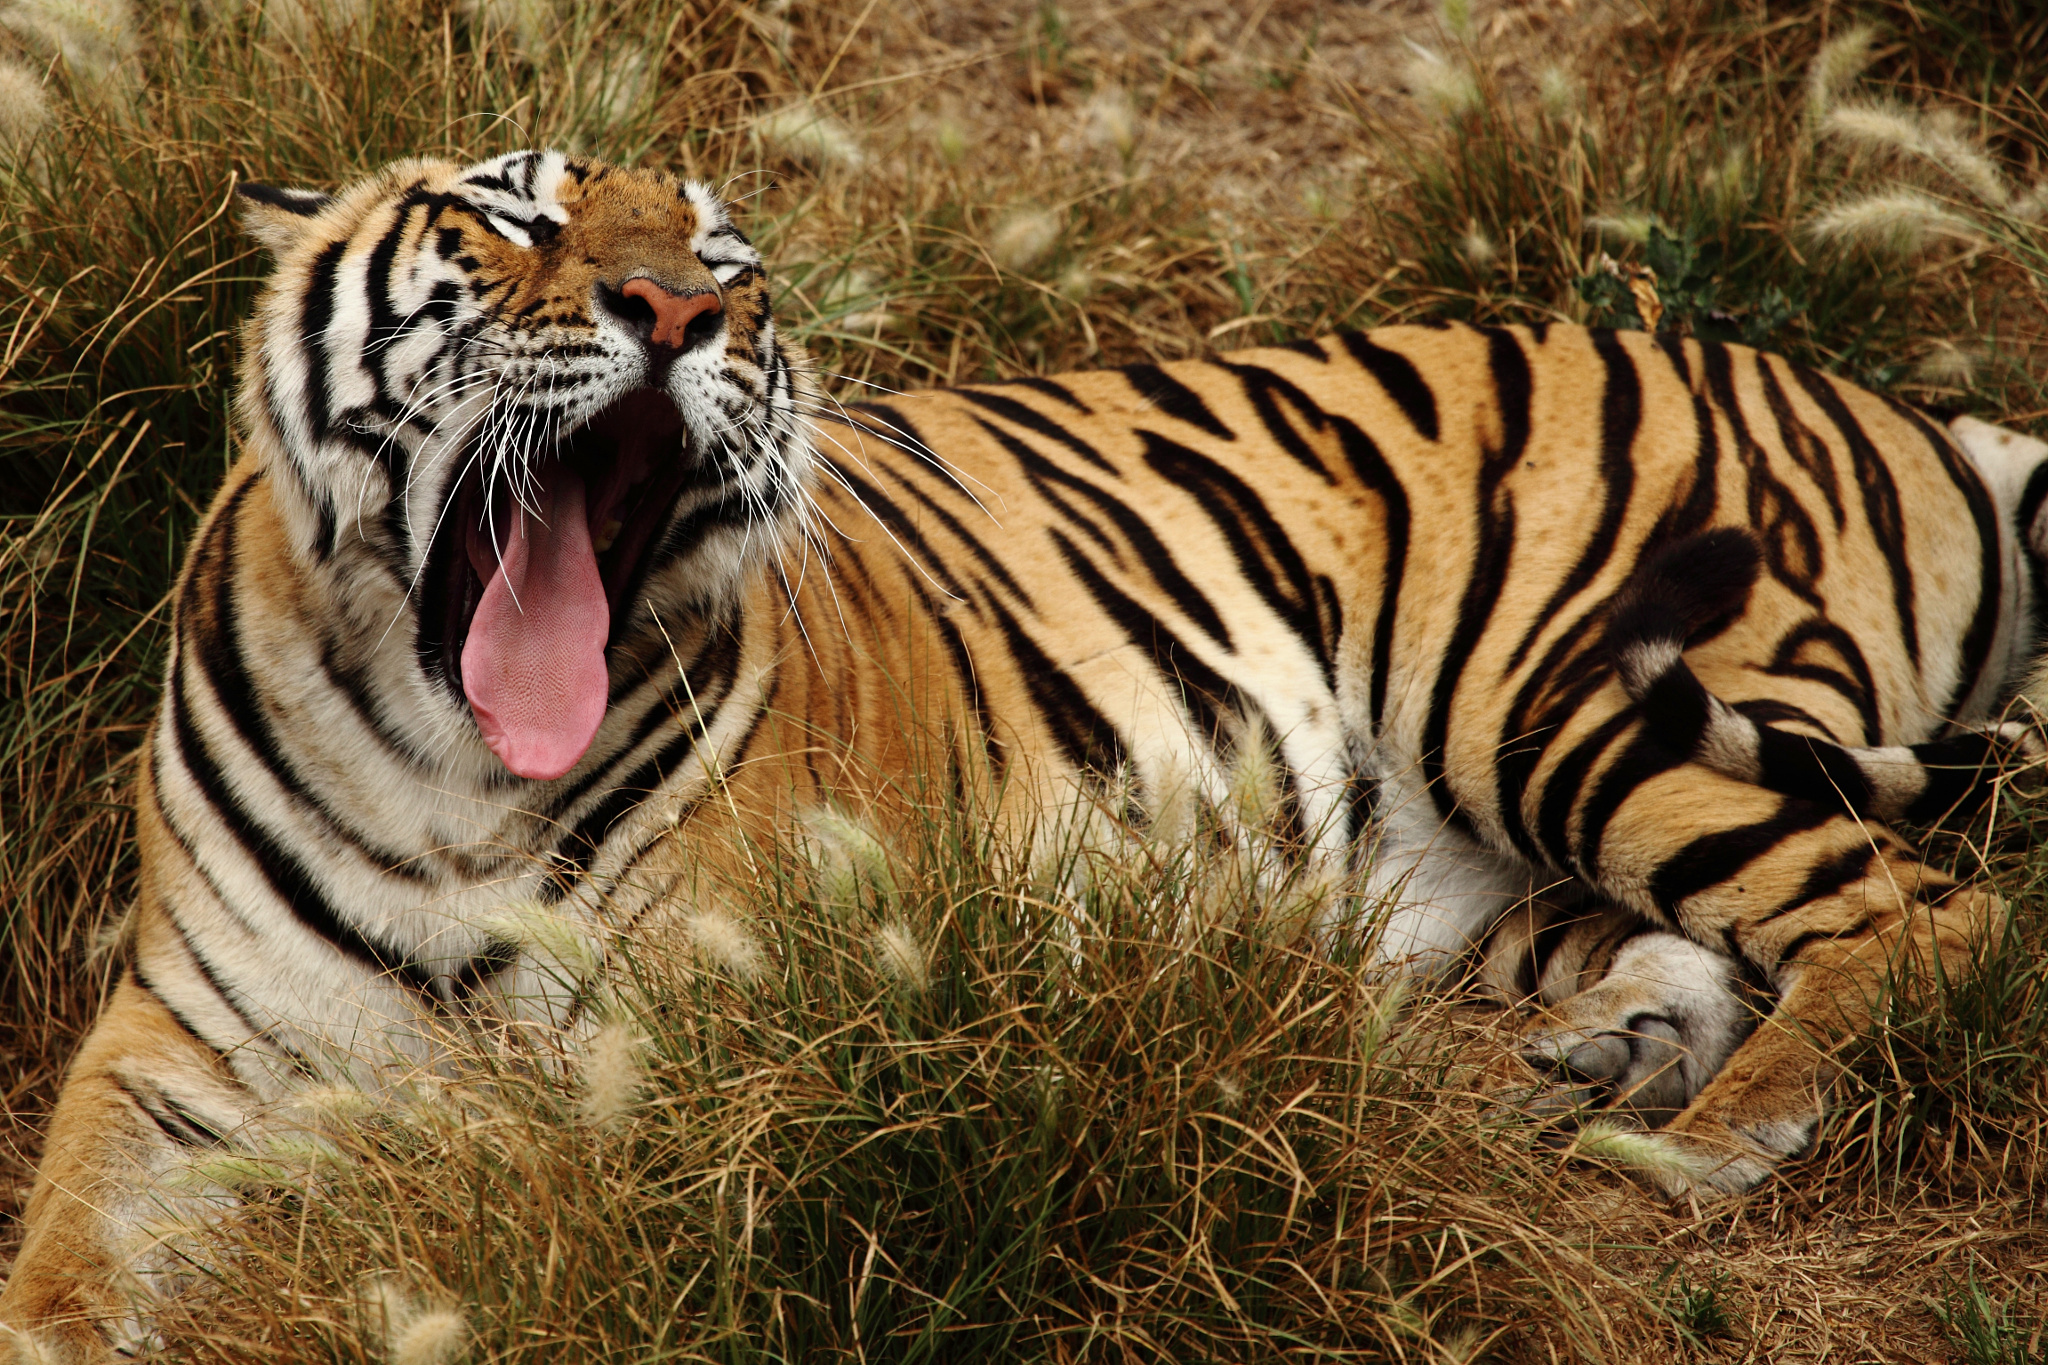tiger: (180, 126, 1998, 1158)
